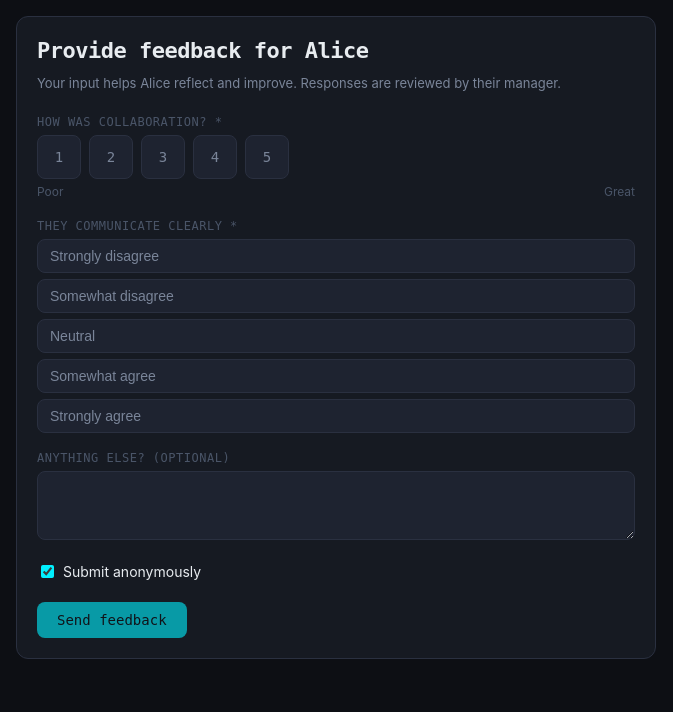
Test case: PublicFeedbackPage › shows the rate-limit message on 429 submit
Click the radio button with test id "public-feedback-rating-q1-4": [215, 157] box [193, 135, 237, 179]
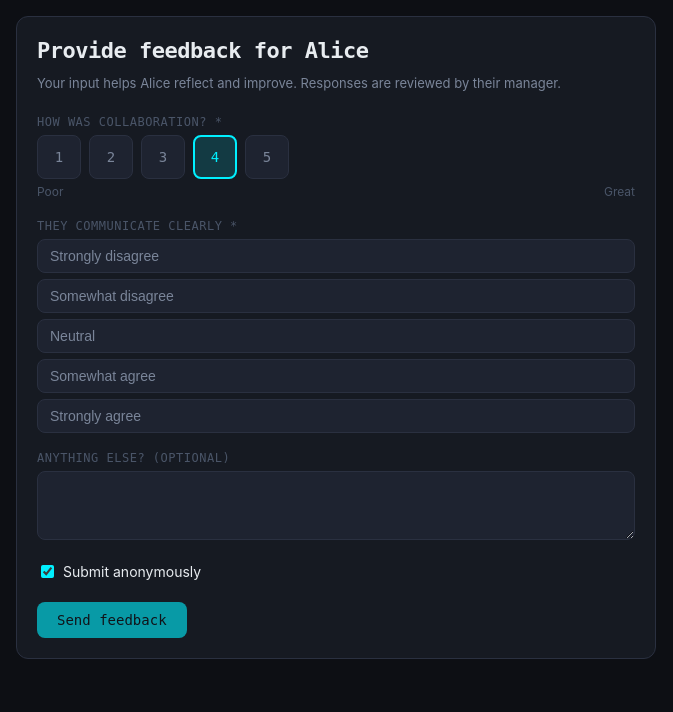
Click the radio button with test id "public-feedback-likert-q3-5": [96, 416] box [37, 399, 635, 433]
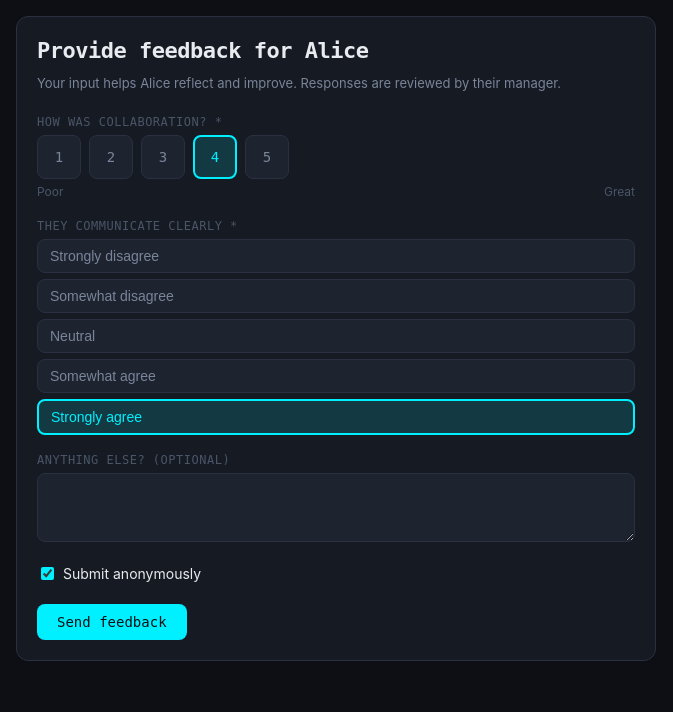
Click the button with test id "public-feedback-submit": [112, 622] box [37, 604, 187, 640]
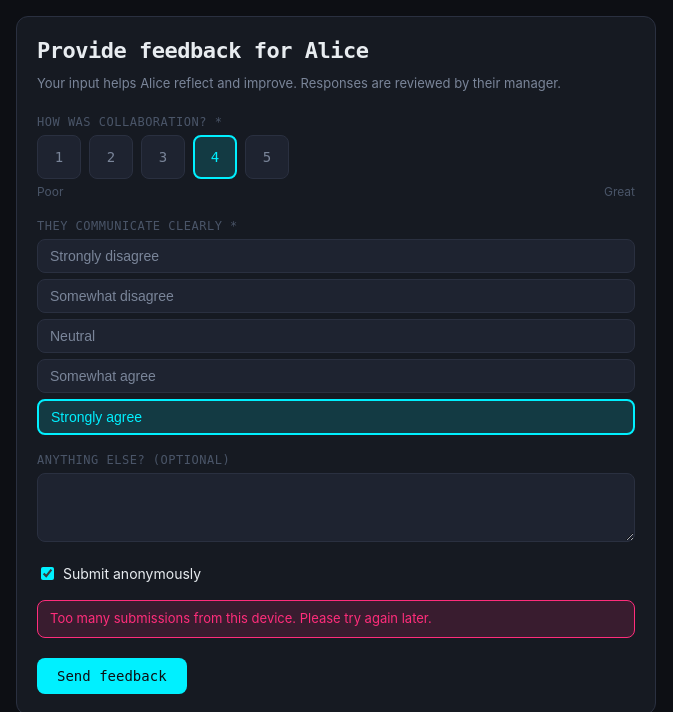
Check: the text with test id "public-feedback-error" shows "Too many submissions from this device", box [50, 610, 432, 626]
